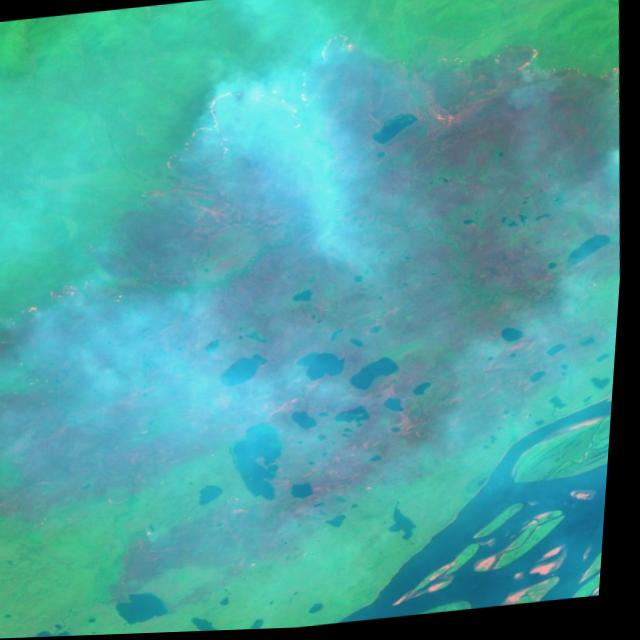fire: (133, 27, 375, 207), (406, 31, 625, 139), (0, 275, 110, 347)
